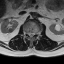CCS_normal: (30, 31, 32, 38)
LFS_stenosis: (34, 32, 36, 36)
LLS_normal: (32, 31, 34, 37)
RFS_stenosis: (26, 31, 28, 36)
RLS_normal: (28, 31, 30, 37)
